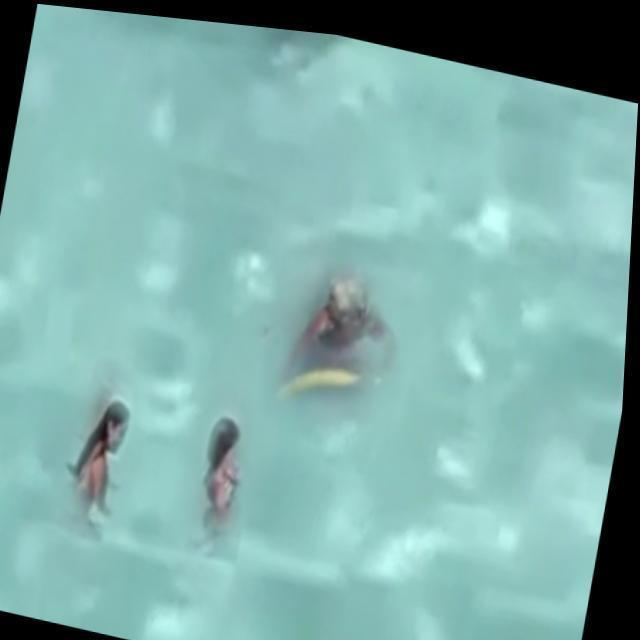swimming: (271, 262, 390, 400), (56, 378, 139, 546), (179, 400, 251, 559)
